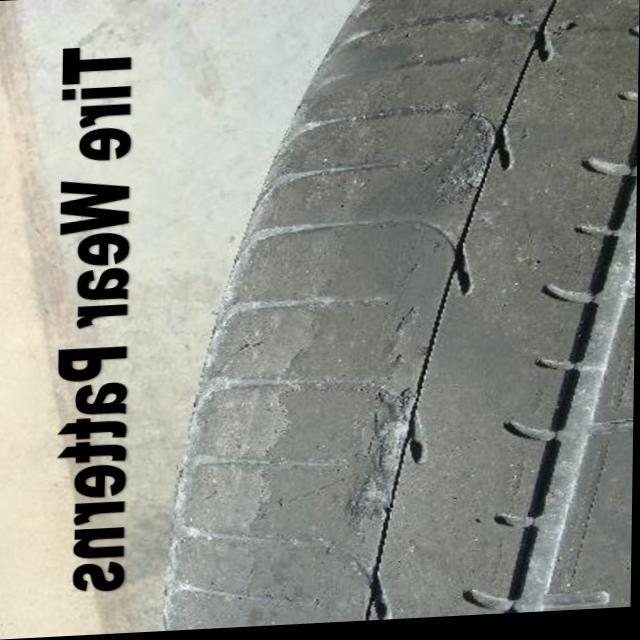Flat spots: (185, 219, 368, 613), (380, 232, 514, 610), (288, 12, 500, 218)
